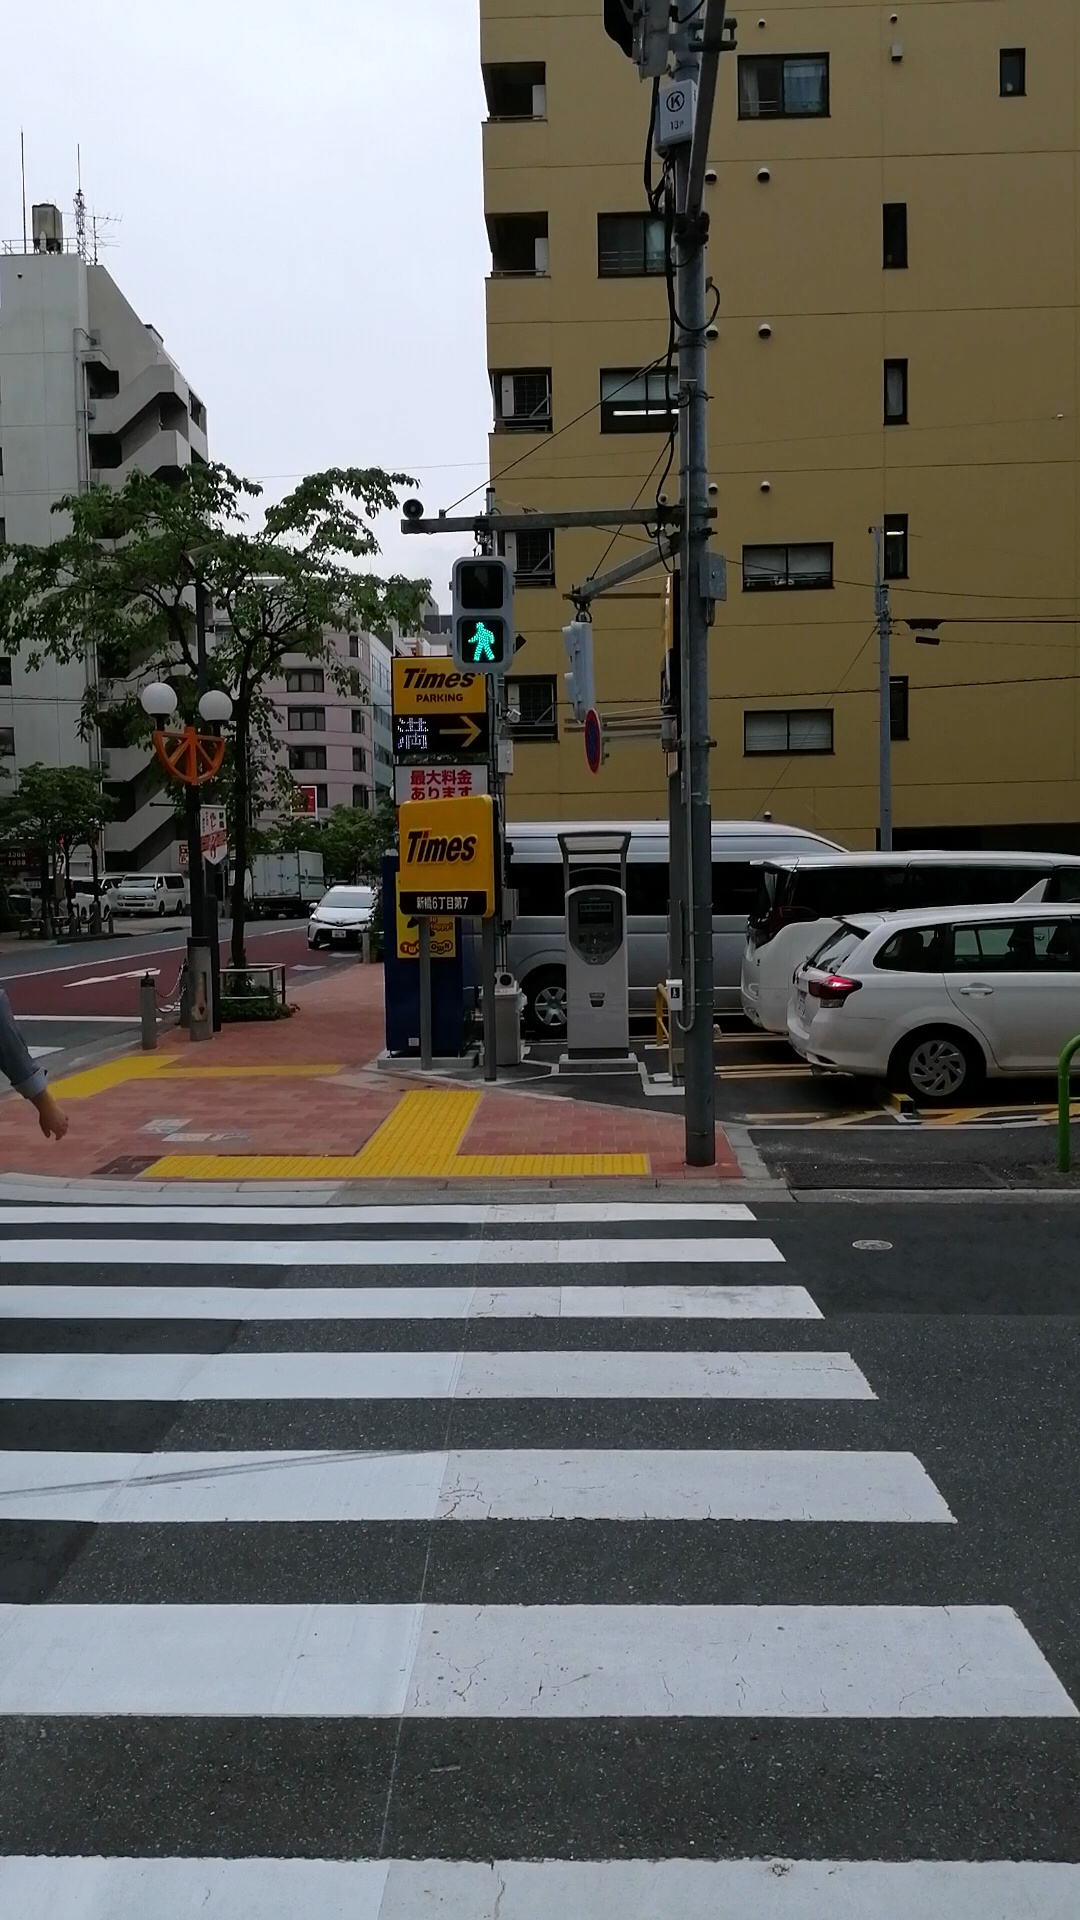green: (448, 555, 512, 673)
